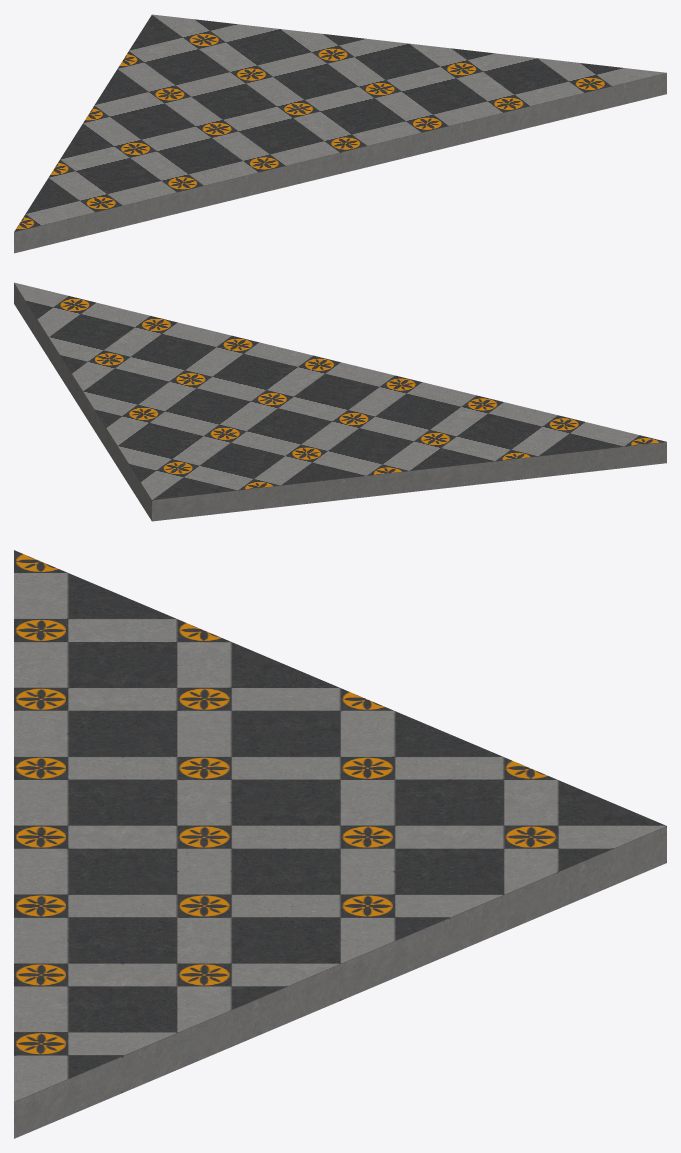
The model's file is SM_FloorTilesDetailQuarter.FBX.
The picture shows the model from 3 angles, top to bottom: view 1: azimuth 30°, elevation 25°; view 2: azimuth 150°, elevation 25°; view 3: azimuth 270°, elevation 25°; orthographic projection. The views are drawn at different scales.
Visible parts, largest first — view 1: SM_FloorTilesDetailQuarter; view 2: SM_FloorTilesDetailQuarter; view 3: SM_FloorTilesDetailQuarter.
Boxes of the visible parts, x1=… form: SM_FloorTilesDetailQuarter: x1=14, y1=14, x2=666, y2=253; SM_FloorTilesDetailQuarter: x1=14, y1=282, x2=666, y2=521; SM_FloorTilesDetailQuarter: x1=14, y1=550, x2=666, y2=1138.
Size of the model in its own units: 800 by 400 by 25.
